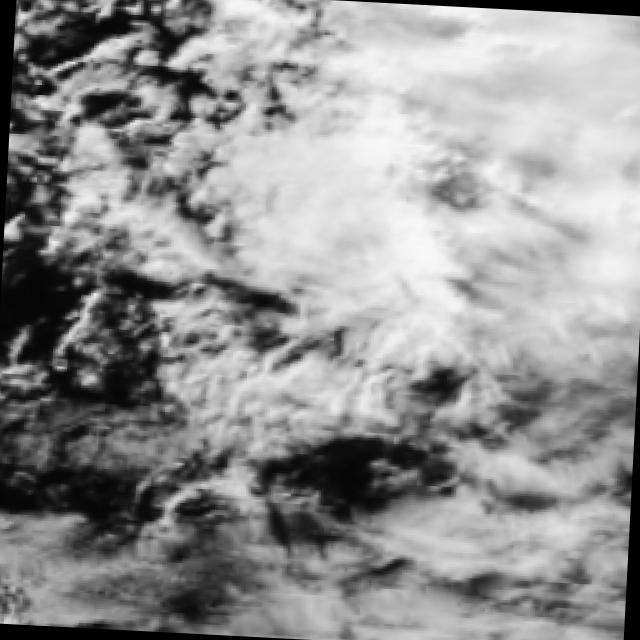CB: (276, 116, 448, 338), (447, 168, 640, 361), (426, 6, 640, 169)
